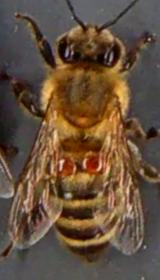varroa_mite: (78, 144, 110, 178), (51, 151, 81, 181)
